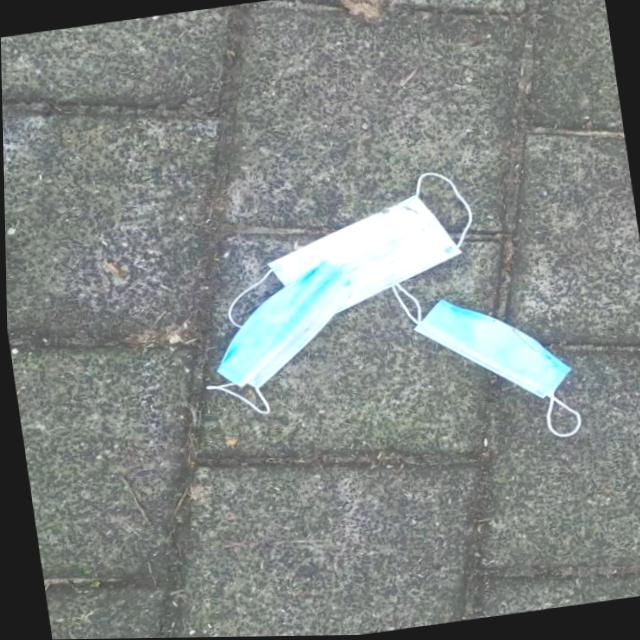Mask: (207, 164, 485, 333), (384, 258, 585, 460), (182, 251, 372, 425)
